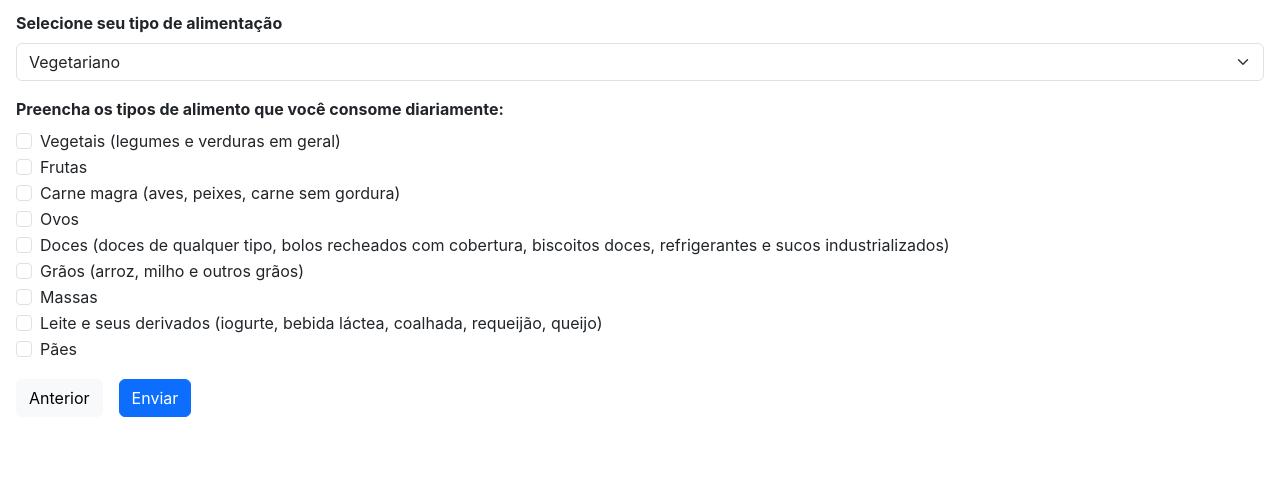
Test: should display the no restriction food items
Select "Sem Restrição" in the dropdown with test id "diet-select". click: x=640, y=62
box: x1=16 y1=43 x2=1264 y2=81
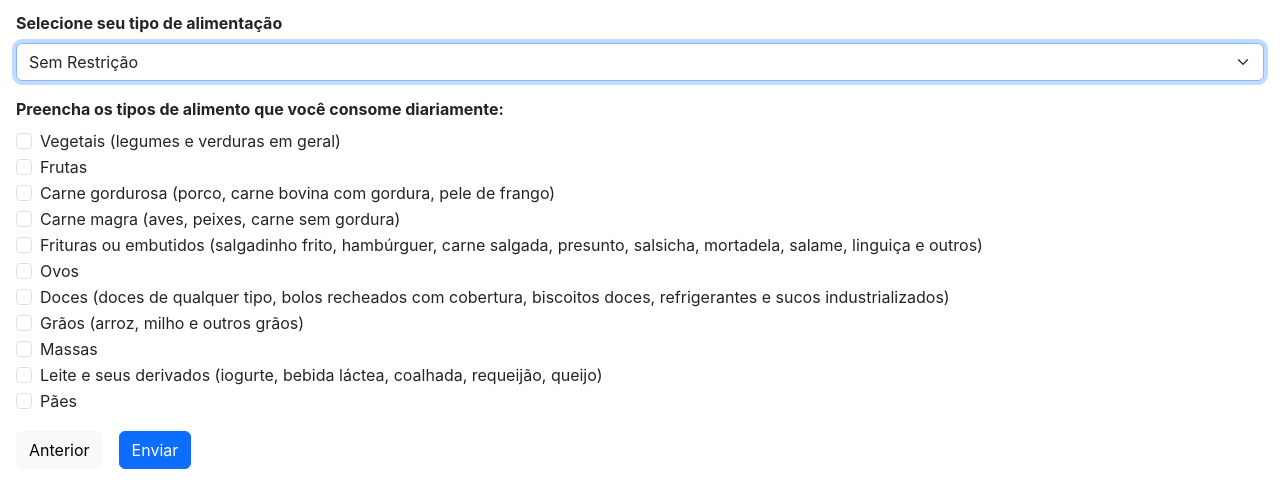
Now the element showing "Carne magra (aves, peixes, carne sem gordura)" is shown, box x1=16 y1=209 x2=400 y2=229
Now the element showing "Ovos" is shown, box x1=16 y1=261 x2=79 y2=281
Now the element showing "Grãos (arroz, milho e outros grãos)" is shown, box x1=16 y1=313 x2=304 y2=333
